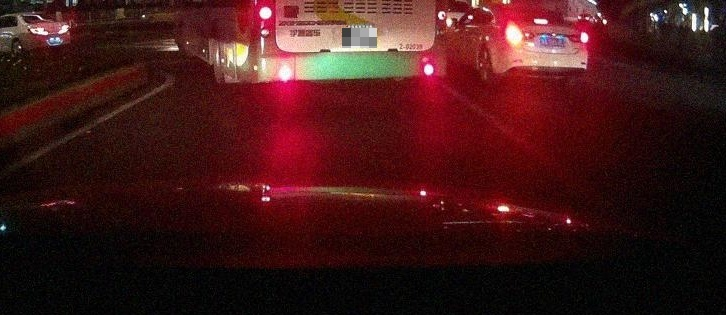L_light: (506, 27, 521, 40), (29, 28, 48, 35)
R_light: (58, 25, 69, 35), (580, 32, 588, 43)
T_light: (533, 19, 548, 24), (32, 16, 39, 17)
night-left: (494, 6, 588, 86)
night-no: (18, 12, 70, 53)
plate_1: (342, 28, 377, 48)
